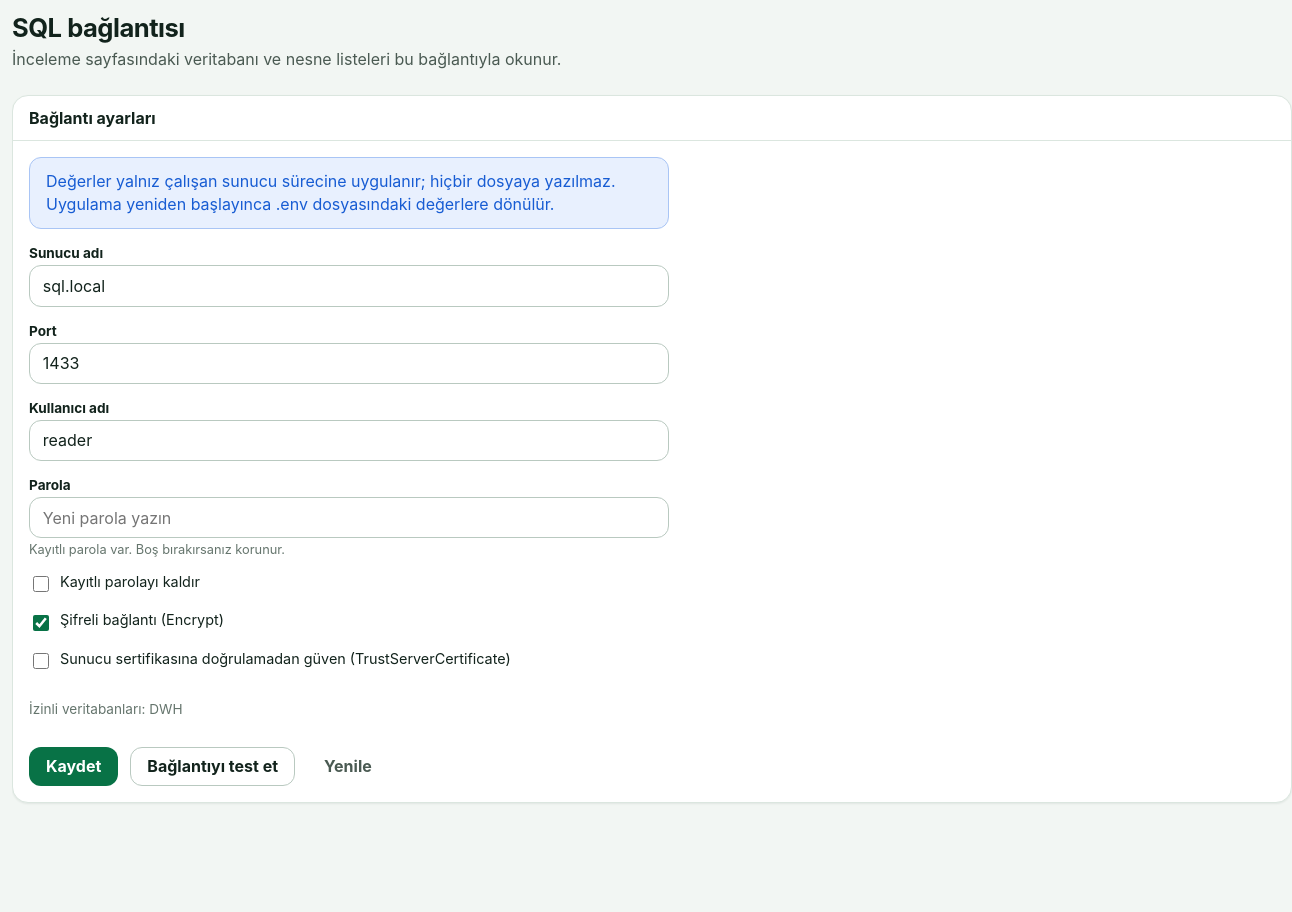
SQL connection page › shows the fixed message of a failed test class
Click the button "Bağlantıyı test et".
click(213, 766)  # box left=130, top=747, right=295, bottom=786
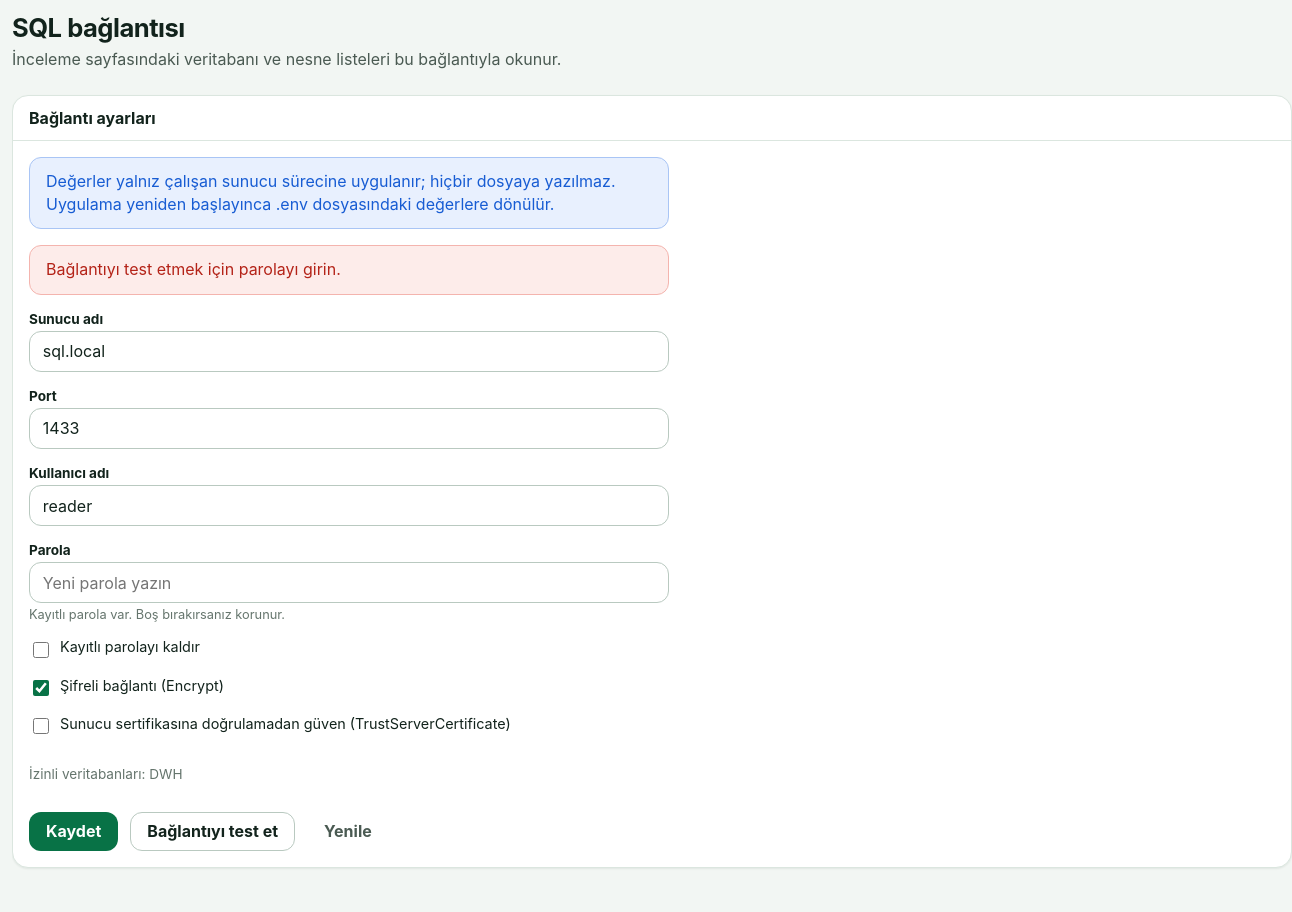
Now the message "Bağlantıyı test etmek için parolayı girin." is shown, box left=29, top=245, right=669, bottom=295
